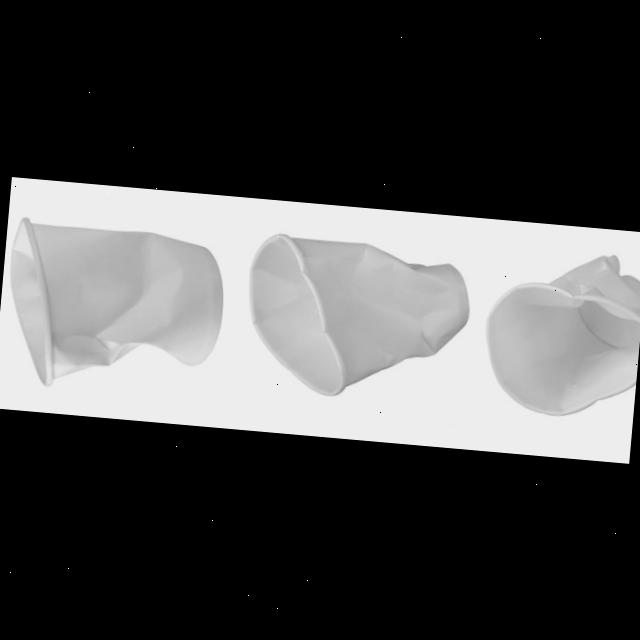trash: (0, 214, 232, 402), (238, 228, 476, 410), (477, 240, 640, 424)
